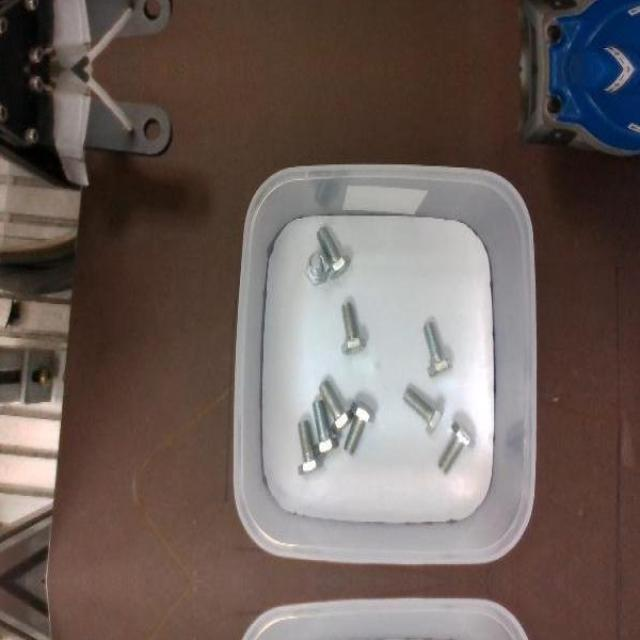screw: (401, 386, 444, 435), (437, 420, 476, 474), (318, 379, 354, 434), (316, 226, 351, 279), (342, 398, 374, 455), (422, 321, 453, 377), (313, 398, 339, 455), (297, 419, 323, 475), (340, 302, 366, 355), (305, 253, 329, 284)
